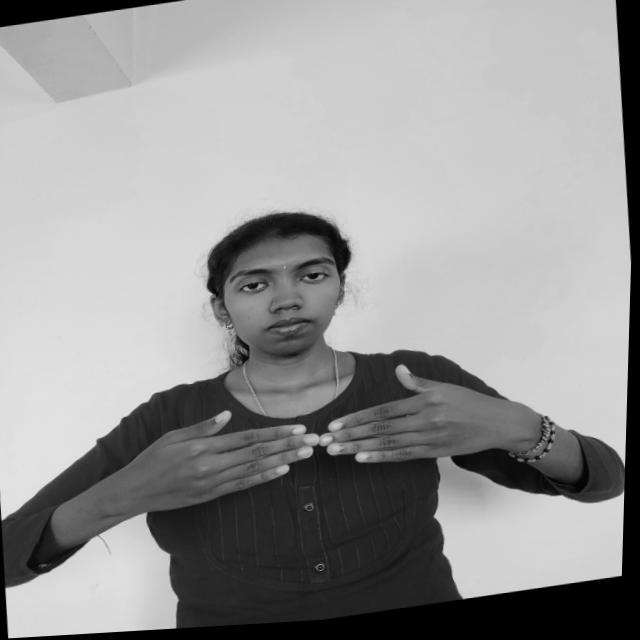Night: (80, 345, 525, 536)
